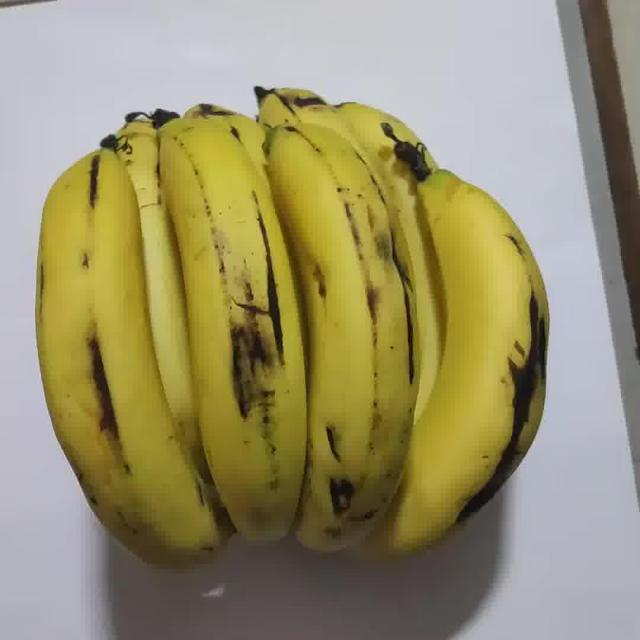Banana: (37, 87, 548, 562)
